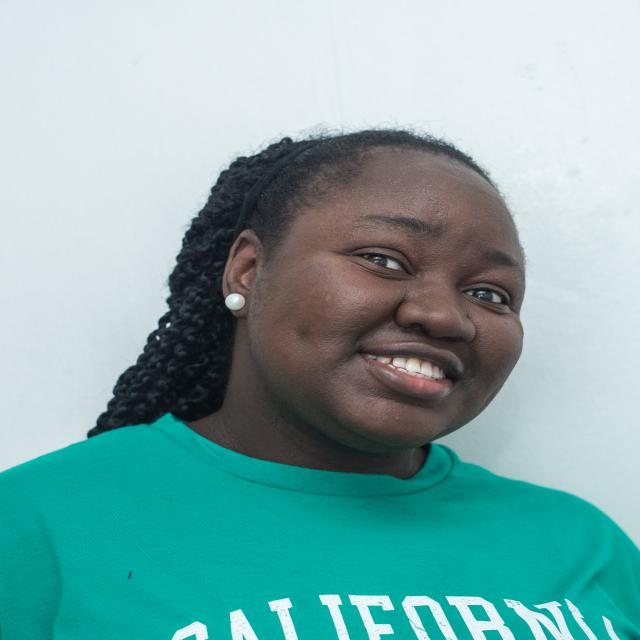happy: (237, 117, 536, 458)
